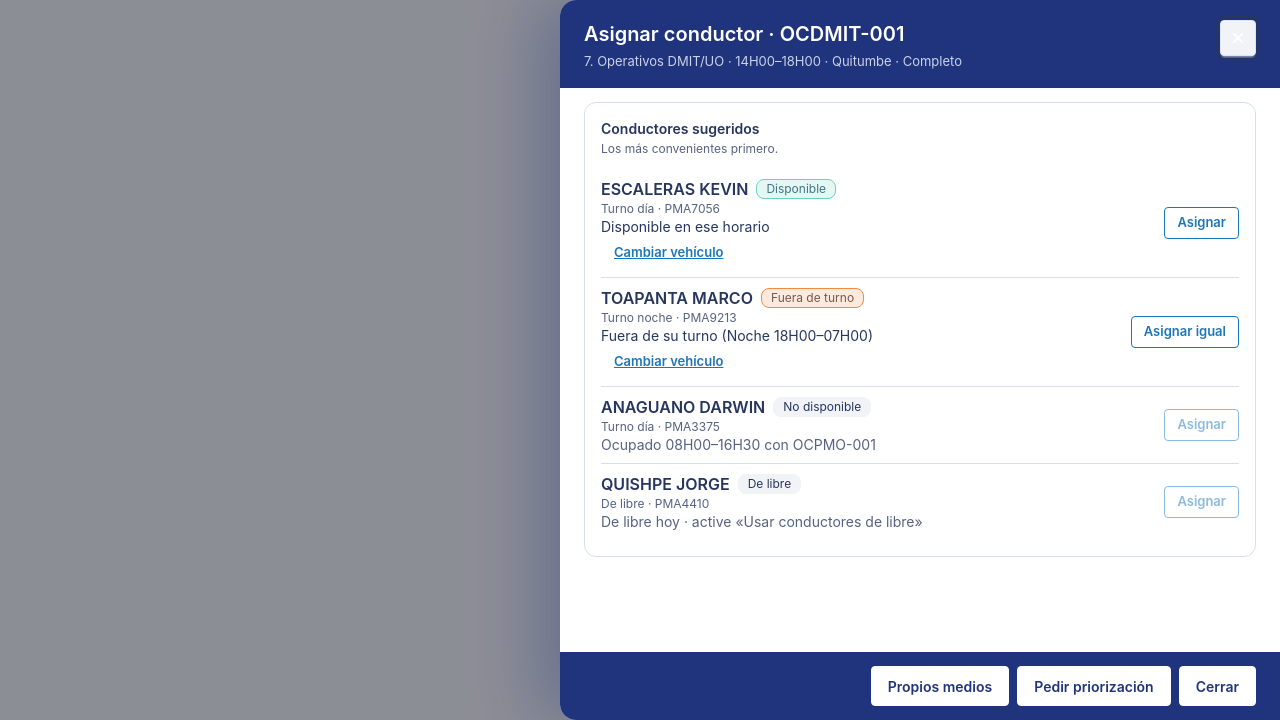
Test case: Cajón «Asignar / Cambiar conductor» › si la evaluación de placas falla, el mensaje del servidor se muestra tal cual
Click the button with aria-label "Cambiar vehículo de ESCALERAS KEVIN" at (669, 252), box [601, 236, 736, 268]
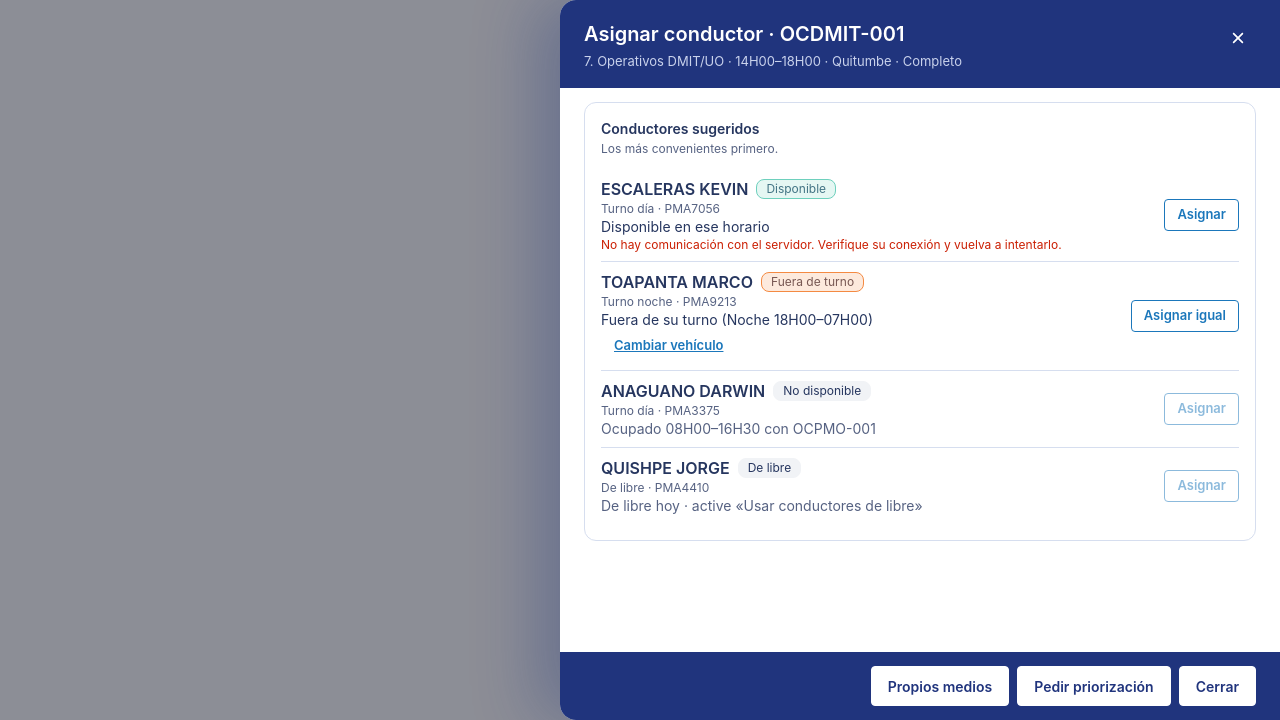
Result: the message is shown at [601, 236, 1062, 252]
